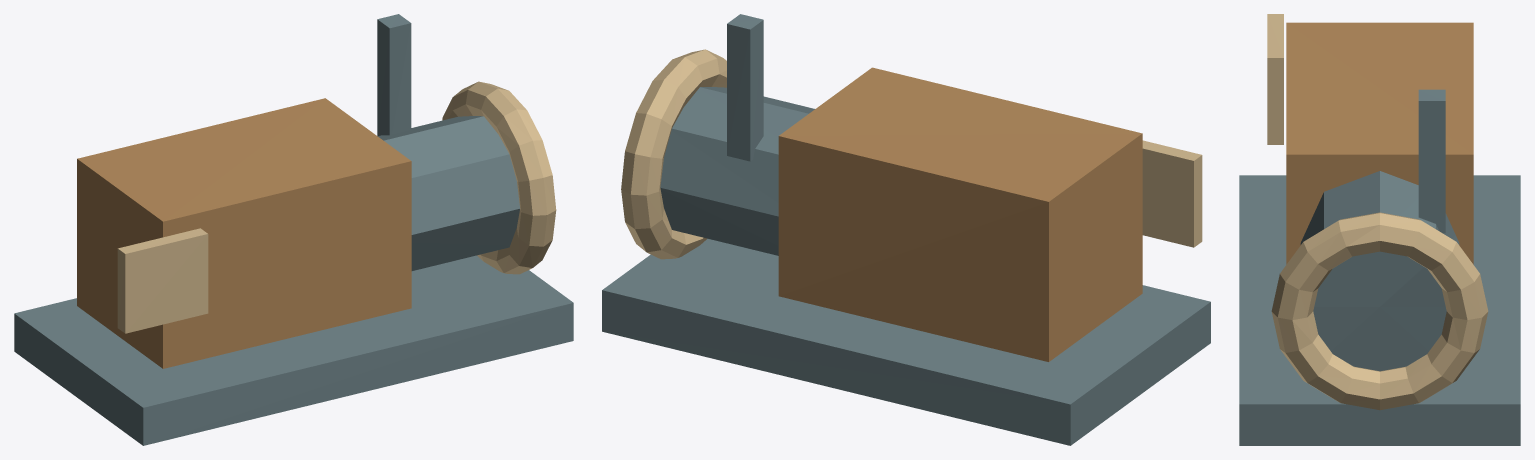
File: generator.source.glb
3 views of the same model, side by side, from view 1: azimuth 30°, elevation 25°; view 2: azimuth 150°, elevation 25°; view 3: azimuth 270°, elevation 25° (orthographic). The views are drawn at different scales.
Visible parts, largest first — view 1: generator-generator-housing-mesh, generator-skid-base-mesh, generator-cylindrical-engine-mesh, generator-visible-flywheel-mesh, generator-control-panel-mesh, generator-exhaust-stack-mesh; view 2: generator-generator-housing-mesh, generator-skid-base-mesh, generator-cylindrical-engine-mesh, generator-visible-flywheel-mesh, generator-control-panel-mesh, generator-exhaust-stack-mesh; view 3: generator-skid-base-mesh, generator-generator-housing-mesh, generator-visible-flywheel-mesh, generator-cylindrical-engine-mesh, generator-exhaust-stack-mesh, generator-control-panel-mesh.
Boxes of the visible parts, x1=… form: generator-generator-housing-mesh: x1=77, y1=98, x2=411, y2=368; generator-skid-base-mesh: x1=14, y1=255, x2=573, y2=445; generator-cylindrical-engine-mesh: x1=378, y1=116, x2=519, y2=270; generator-visible-flywheel-mesh: x1=442, y1=81, x2=556, y2=274; generator-control-panel-mesh: x1=117, y1=228, x2=208, y2=333; generator-exhaust-stack-mesh: x1=377, y1=14, x2=411, y2=136; generator-generator-housing-mesh: x1=778, y1=67, x2=1142, y2=361; generator-skid-base-mesh: x1=602, y1=238, x2=1210, y2=445; generator-cylindrical-engine-mesh: x1=660, y1=87, x2=814, y2=255; generator-visible-flywheel-mesh: x1=621, y1=49, x2=726, y2=259; generator-control-panel-mesh: x1=1142, y1=140, x2=1202, y2=247; generator-exhaust-stack-mesh: x1=727, y1=14, x2=763, y2=161; generator-skid-base-mesh: x1=1239, y1=175, x2=1520, y2=445; generator-generator-housing-mesh: x1=1286, y1=22, x2=1473, y2=264; generator-visible-flywheel-mesh: x1=1271, y1=212, x2=1488, y2=410; generator-cylindrical-engine-mesh: x1=1300, y1=171, x2=1459, y2=371; generator-exhaust-stack-mesh: x1=1418, y1=89, x2=1445, y2=233; generator-control-panel-mesh: x1=1267, y1=14, x2=1283, y2=144.
Bounding box in the file's own units: 2.66 × 1.6 × 1.35.
